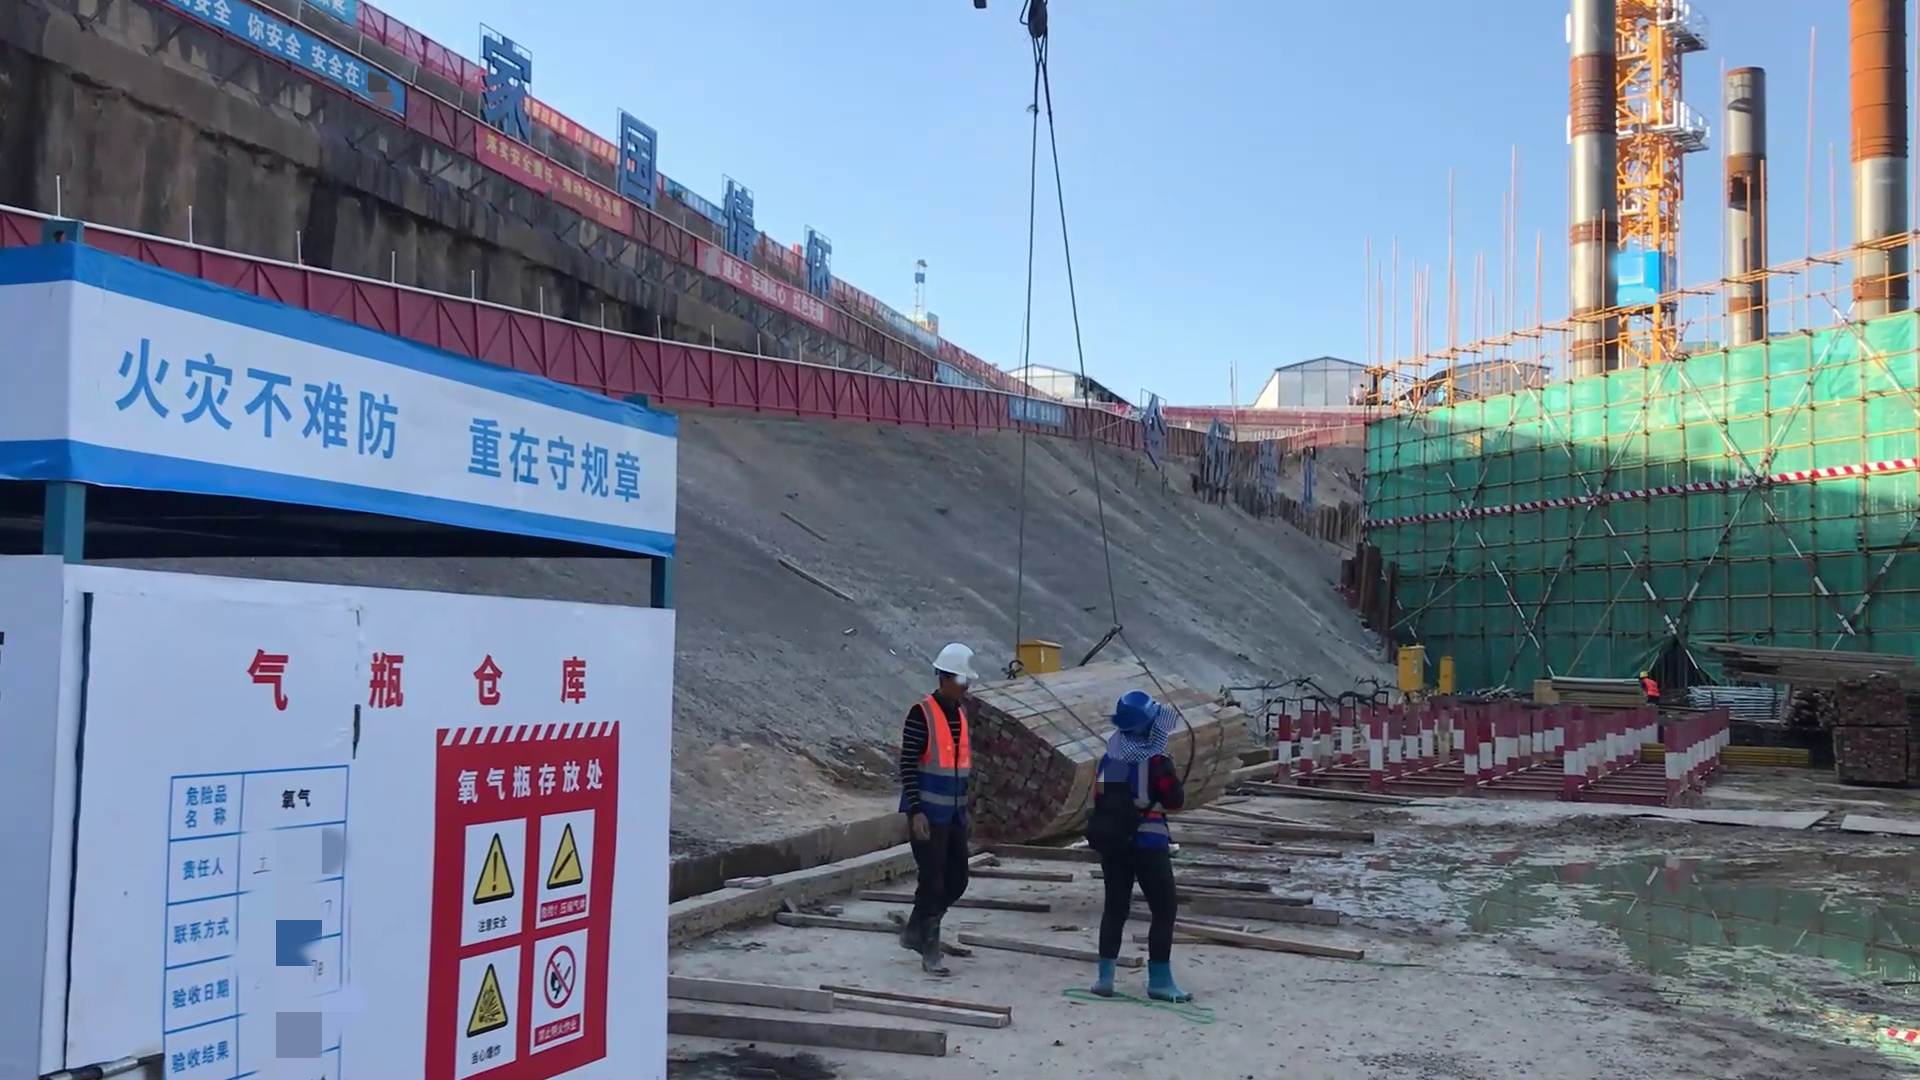ebox: (1006, 627, 1064, 678), (1401, 643, 1425, 692), (1434, 653, 1456, 694)
fence: (671, 341, 885, 427), (888, 374, 1018, 430)
helmet: (927, 633, 1009, 709), (1097, 687, 1161, 742)
person: (1090, 686, 1209, 1006), (907, 635, 975, 980), (1631, 667, 1664, 704)
slogan: (114, 316, 655, 523), (412, 781, 618, 1080), (403, 116, 654, 257), (192, 1, 381, 142)
vest: (915, 710, 972, 815), (1637, 679, 1657, 698)
wood: (975, 675, 1088, 850), (1704, 635, 1897, 705)
